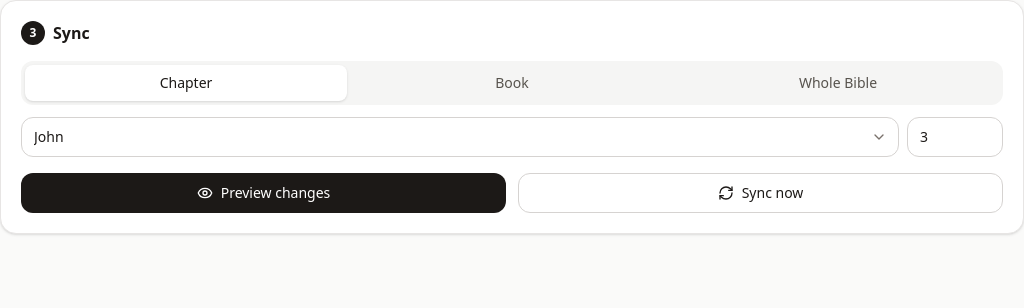
SyncCard before running › starts from the pace this browser measured last time
Step 1. Click the radio button labelled "Book" → (512, 82), box [495,73,529,92]
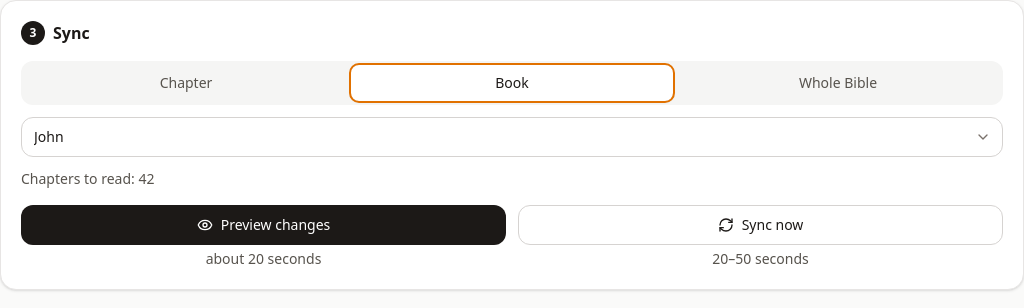
Check: the text "about 20 seconds" is shown, box [206,249,321,268]
